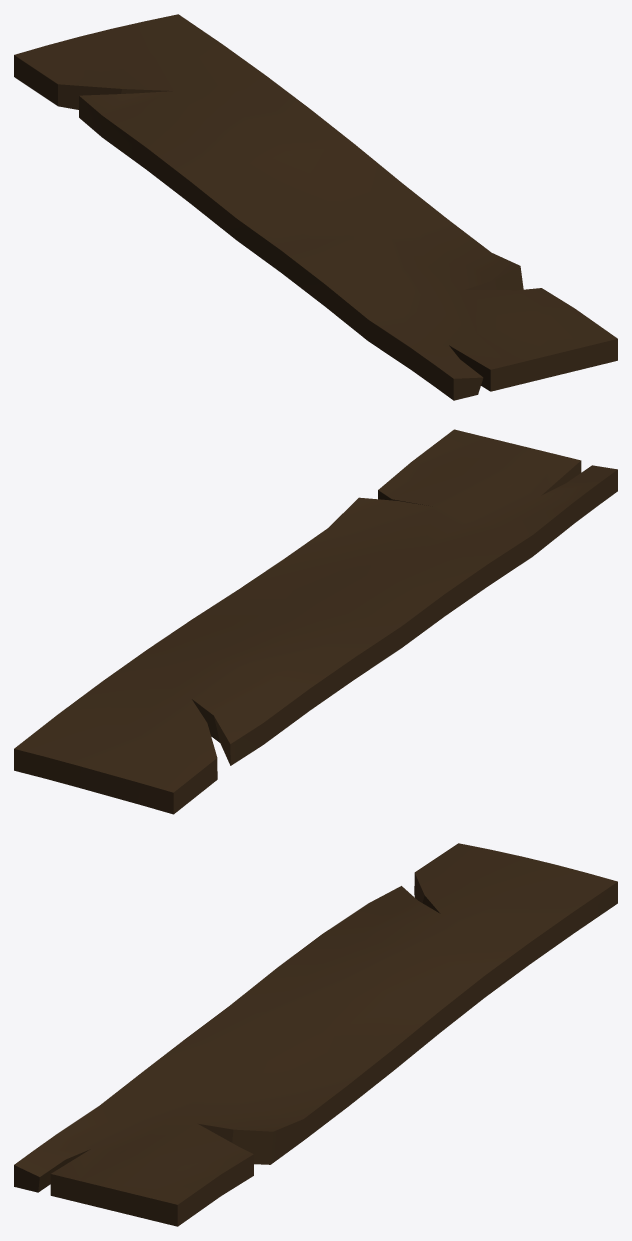
The model's file is tablon.fbx.
3 renders of one model, top to bottom at view 1: azimuth 30°, elevation 25°; view 2: azimuth 150°, elevation 25°; view 3: azimuth 330°, elevation 25°, orthographic.
Visible parts, largest first — view 1: pCube1; view 2: pCube1; view 3: pCube1.
Part boxes in pixels (x1=…): pCube1: x1=14, y1=14, x2=617, y2=400; pCube1: x1=14, y1=429, x2=617, y2=814; pCube1: x1=14, y1=843, x2=617, y2=1226.
Bounding box in the file's own units: 0.9182 × 0.2123 × 4.28.
